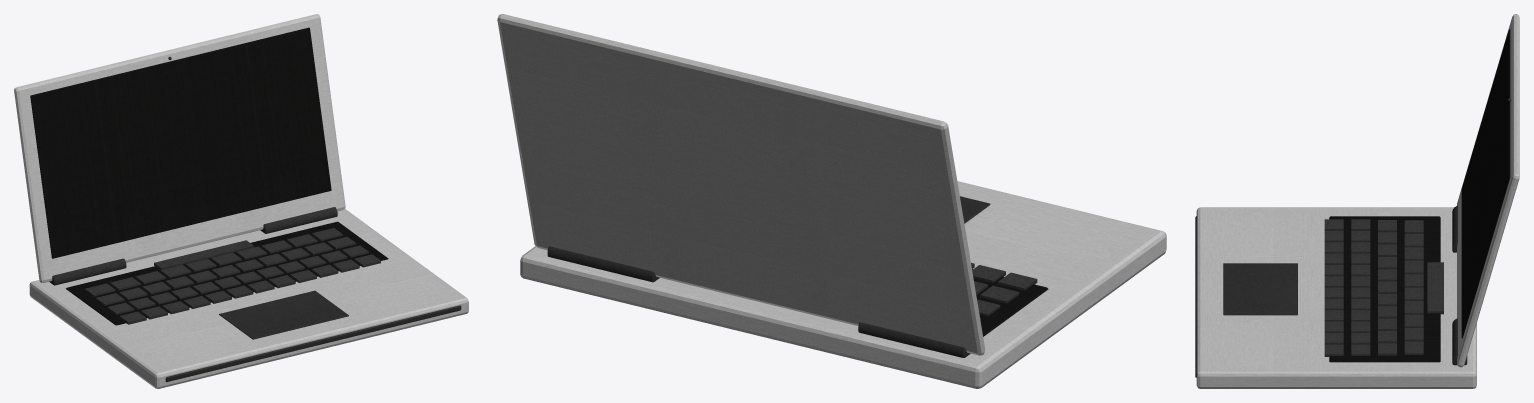
The model's file is studio-guide-laptop.glb.
3 views of the same model, side by side, from view 1: azimuth 30°, elevation 25°; view 2: azimuth 150°, elevation 25°; view 3: azimuth 270°, elevation 25° (orthographic). The views are drawn at different scales.
Visible parts, largest first — view 1: dark_screen, aluminium_base, display_lid, keyboard_well, trackpad, front_lip, spacebar, left_hinge, right_hinge; view 2: display_lid, aluminium_base, keyboard_well, right_hinge, left_hinge; view 3: aluminium_base, dark_screen, keyboard_well, display_lid, trackpad, spacebar, front_lip, key_03_03, right_hinge.
Boxes of the visible parts, bbox=[...] form: dark_screen: bbox=[30, 27, 331, 258]; aluminium_base: bbox=[29, 209, 468, 388]; display_lid: bbox=[14, 14, 345, 282]; keyboard_well: bbox=[66, 221, 388, 325]; trackpad: bbox=[219, 290, 348, 339]; front_lip: bbox=[165, 305, 461, 382]; spacebar: bbox=[154, 240, 253, 269]; left_hinge: bbox=[49, 258, 126, 285]; right_hinge: bbox=[260, 207, 337, 233]; display_lid: bbox=[497, 14, 985, 355]; aluminium_base: bbox=[520, 181, 1166, 388]; keyboard_well: bbox=[972, 269, 1048, 336]; right_hinge: bbox=[547, 246, 659, 282]; left_hinge: bbox=[858, 322, 970, 357]; aluminium_base: bbox=[1196, 207, 1476, 388]; dark_screen: bbox=[1461, 29, 1510, 338]; keyboard_well: bbox=[1329, 216, 1440, 362]; display_lid: bbox=[1457, 14, 1519, 367]; trackpad: bbox=[1223, 263, 1297, 315]; spacebar: bbox=[1427, 262, 1443, 314]; front_lip: bbox=[1195, 216, 1196, 377]; key_03_03: bbox=[1404, 260, 1423, 274]; right_hinge: bbox=[1452, 318, 1467, 365].
Size of the model in its own units: 0.312 by 0.1851 by 0.2557.
4 materials, 4 textured.
